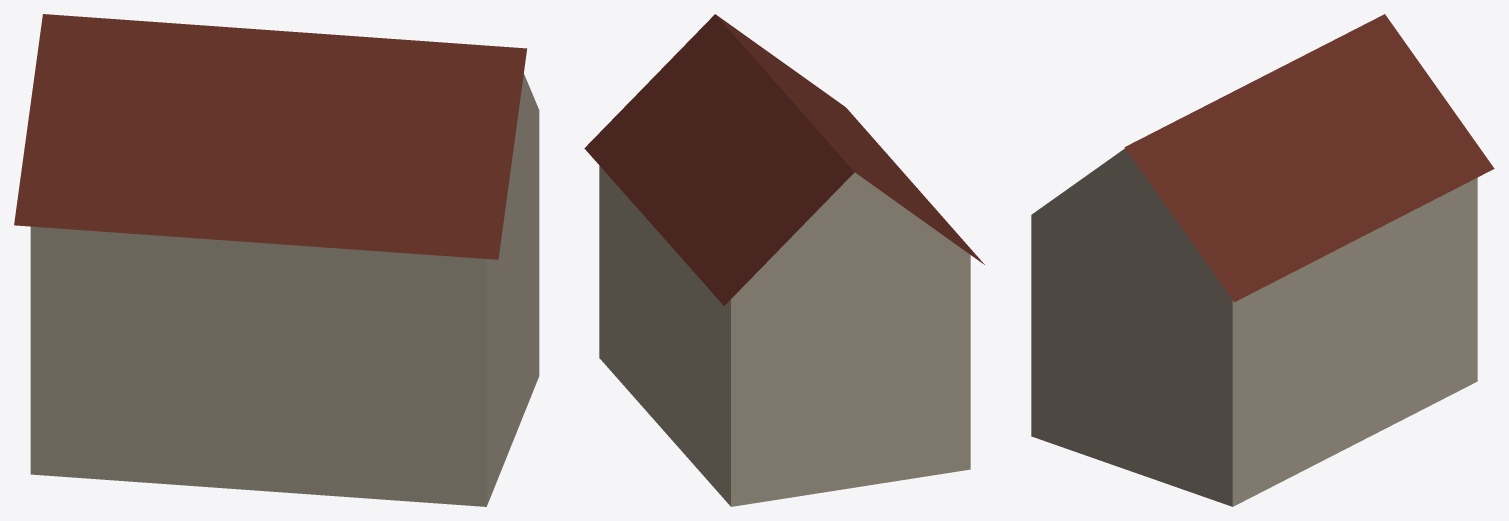
3 views of the same model, side by side, from view 1: azimuth 30°, elevation 25°; view 2: azimuth 150°, elevation 25°; view 3: azimuth 270°, elevation 25° (orthographic). The views are drawn at different scales.
Parts seen in each view (by area): view 1: buildings; view 2: buildings; view 3: buildings.
Boxes of the visible parts, bbox=[...] form: buildings: bbox=[14, 14, 539, 506]; buildings: bbox=[584, 14, 984, 506]; buildings: bbox=[1031, 14, 1494, 506].
Size of the model in its own units: 12.42 by 9.04 by 11.98.
